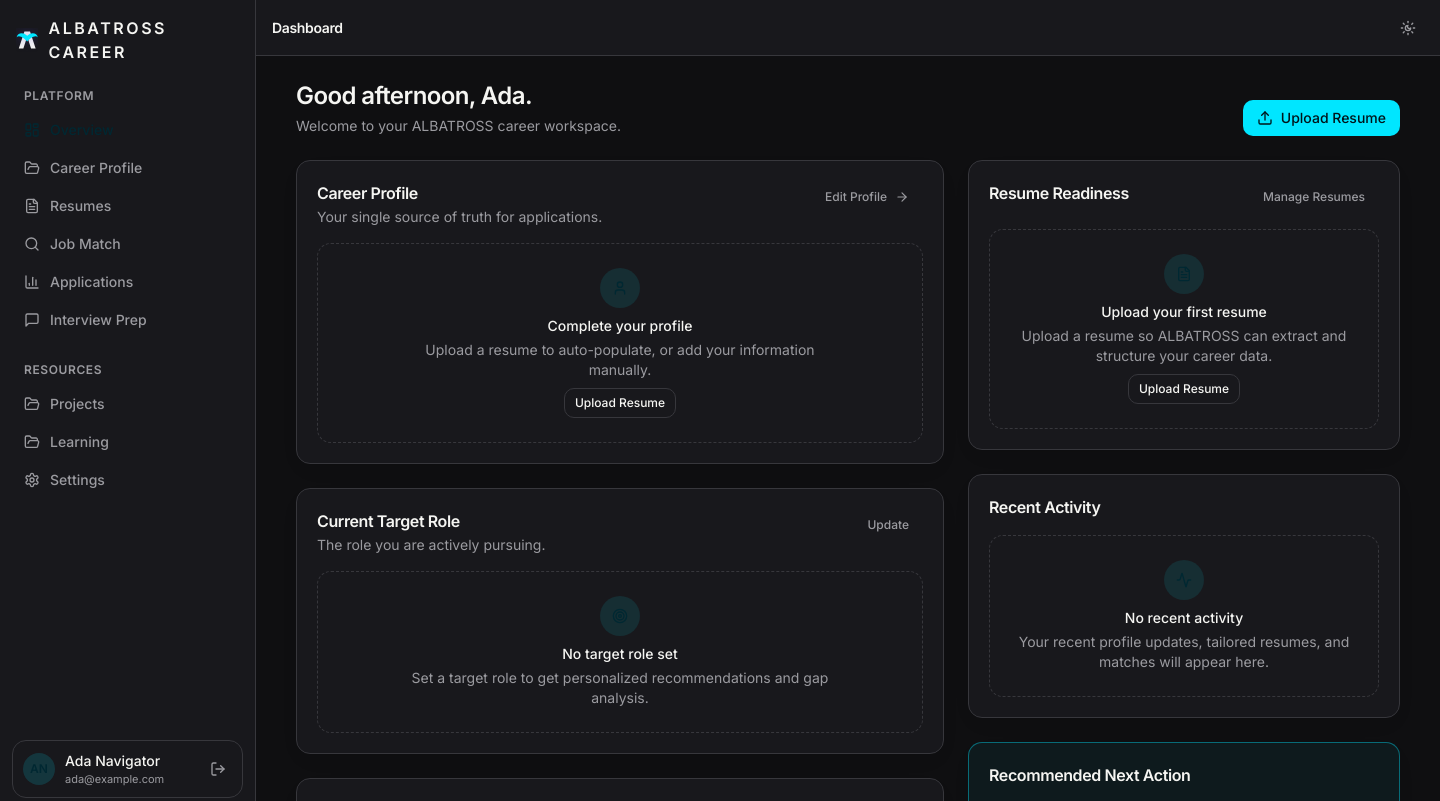
Test: sign out › revokes the refresh token server-side and clears the stored session
Click the button named "Sign out": click(218, 769) [204, 755, 232, 783]
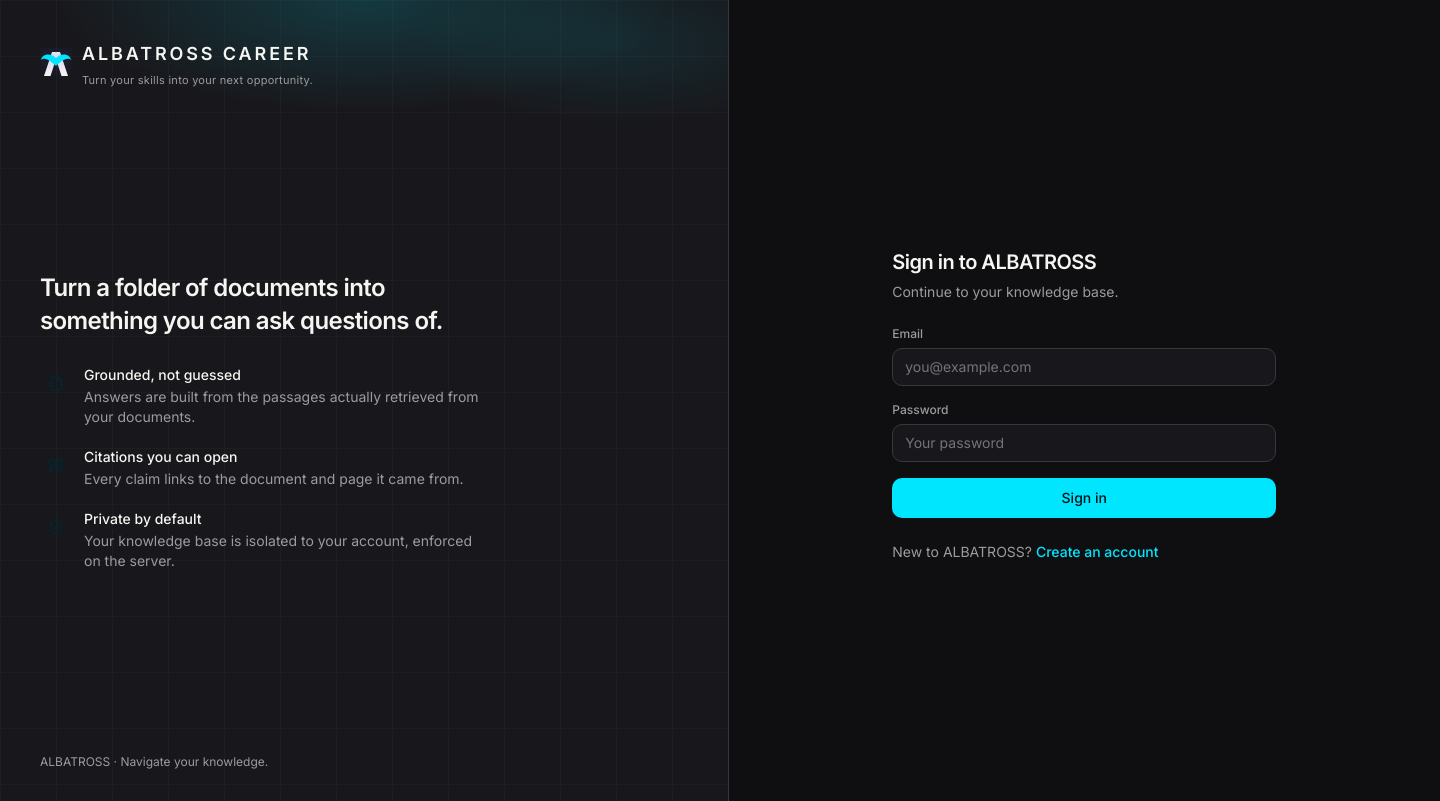
Expected: the heading "Sign in to ALBATROSS" is shown, [892, 250, 1096, 274]
